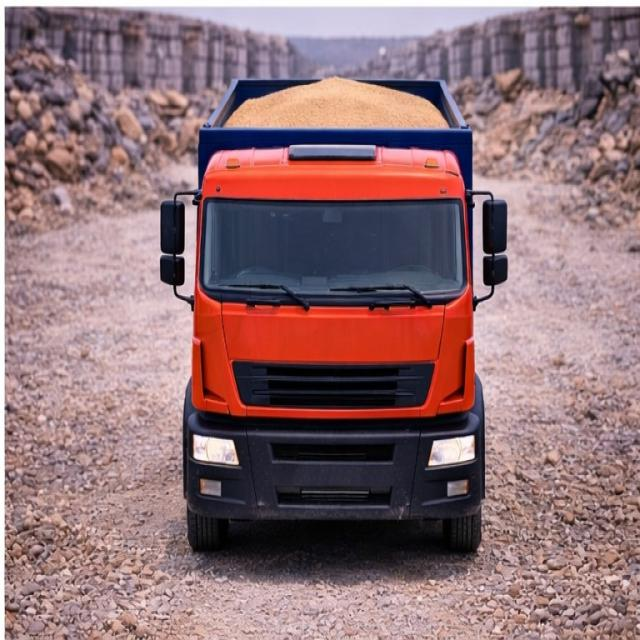Box: (192, 70, 486, 152)
Truck: (152, 27, 532, 576)
